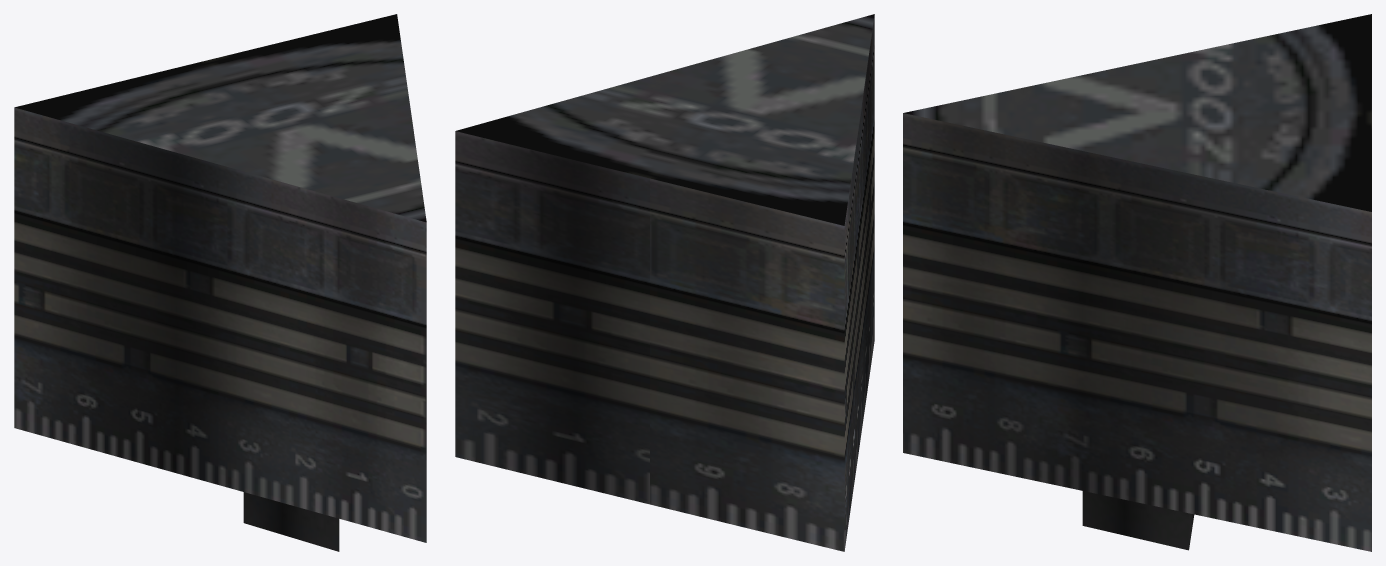
The model's file is t6_attach_optic_vzoom_xpr50_world_LOD2.obj.
3 views of the same model, side by side, from view 1: azimuth 30°, elevation 25°; view 2: azimuth 150°, elevation 25°; view 3: azimuth 270°, elevation 25° (orthographic). The views are drawn at different scales.
Visible parts, largest first — view 1: mtl_t6_attach_optic_vzoom_xpr50; view 2: mtl_t6_attach_optic_vzoom_xpr50; view 3: mtl_t6_attach_optic_vzoom_xpr50.
Part boxes in pixels (box(x1,y1,x2,y2)): mtl_t6_attach_optic_vzoom_xpr50: box(14, 14, 426, 551); mtl_t6_attach_optic_vzoom_xpr50: box(455, 14, 874, 551); mtl_t6_attach_optic_vzoom_xpr50: box(903, 14, 1371, 551).
Bounding box in the file's own units: 3.93 × 3.84 × 3.93.
